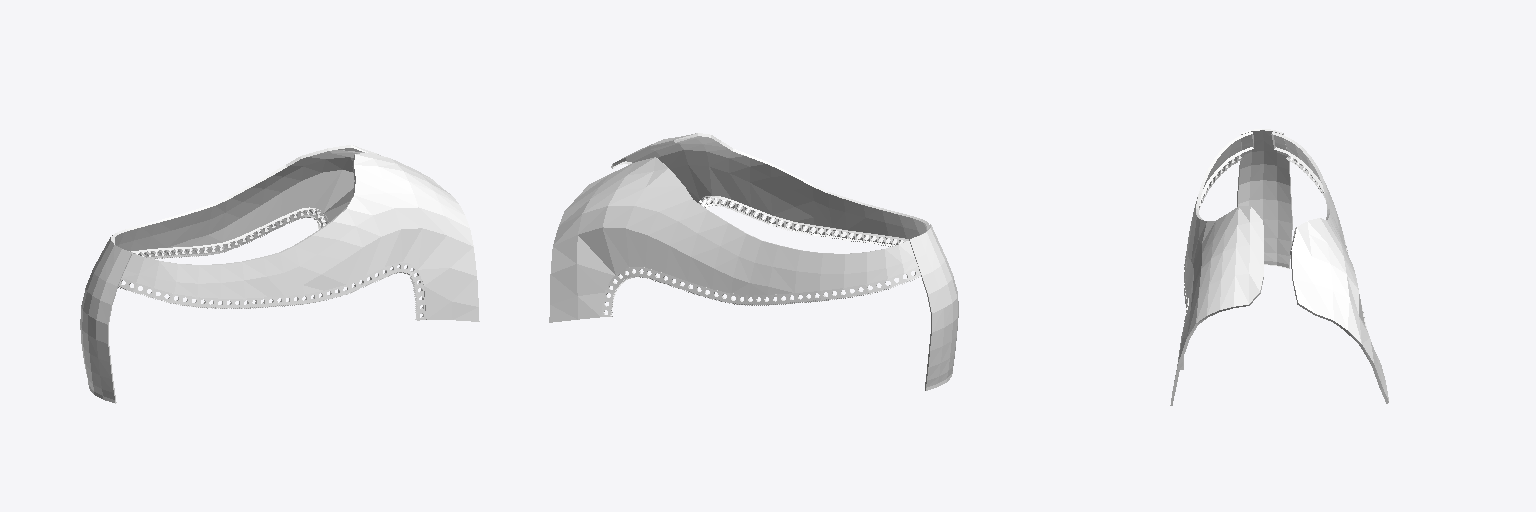
3 renders of one model, left to right at view 1: azimuth 30°, elevation 25°; view 2: azimuth 150°, elevation 25°; view 3: azimuth 270°, elevation 25°, orthographic.
Parts seen in each view (by area): view 1: upper_part; view 2: upper_part; view 3: upper_part.
Part boxes in pixels (bbox=[...]): upper_part: bbox=[80, 145, 479, 403]; upper_part: bbox=[549, 133, 958, 390]; upper_part: bbox=[1170, 129, 1388, 405].
Size of the model in its own units: 117 by 58.02 by 62.75.